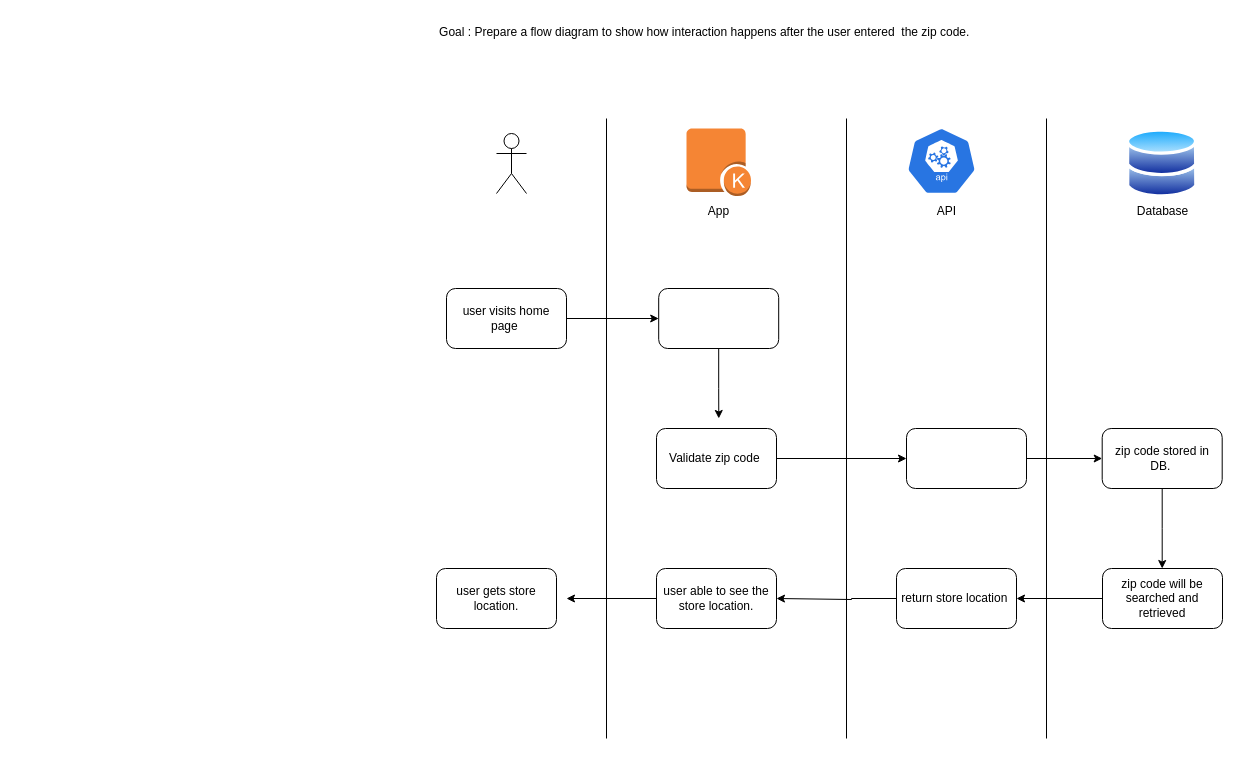
Image size: 1240x757. Some labels were removed from this diagram. The box of each missing label's shape, as (x1, y1, x2, y2) in pixels:
Request store data based on zip code from API: (906, 428, 1026, 488)
User: (496, 132, 526, 194)
user enters the zip code.: (658, 288, 779, 348)
